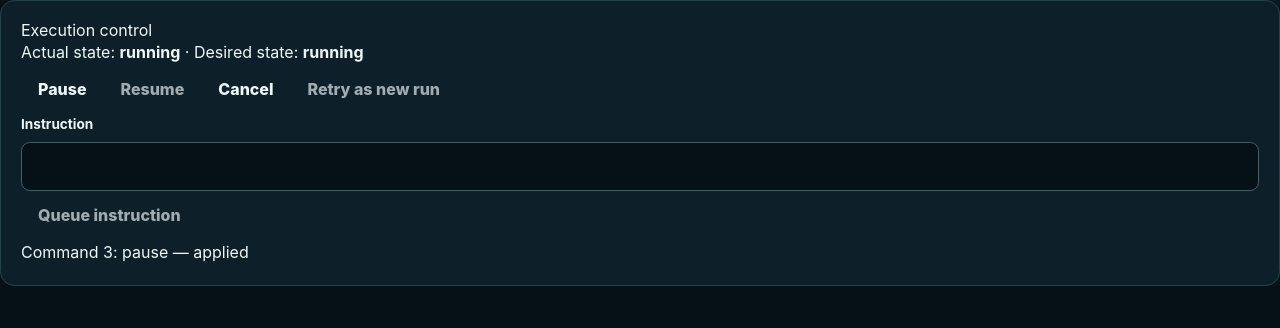
Test: uses truthful controls for running and durable receipts
The width and height of the screenshot is (1280, 328).
Expected: the button "Resume" is disabled, x1=104 y1=65 x2=201 y2=114
Expected: the list item "Command 3: pause — applied" is shown, x1=21 y1=242 x2=249 y2=262
Click the button "Pause" at coordinates (62, 90), box x1=21 y1=65 x2=104 y2=114
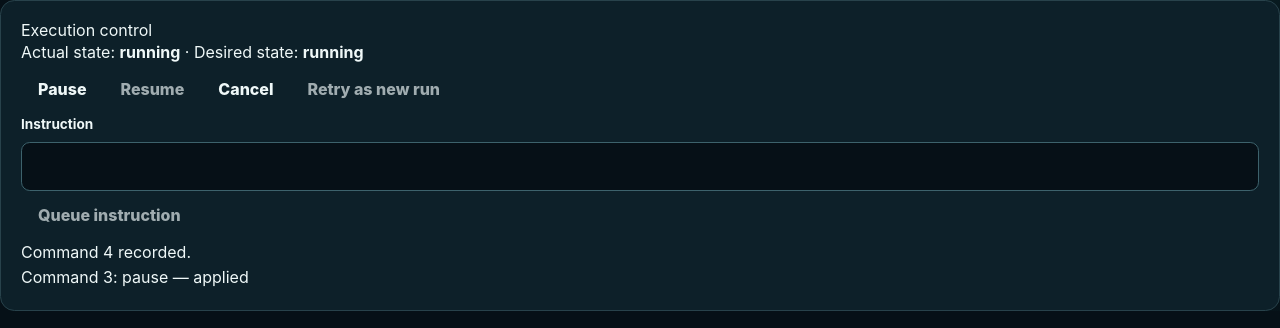
Now the text "Command 4 recorded." is shown, box x1=21 y1=242 x2=191 y2=262
